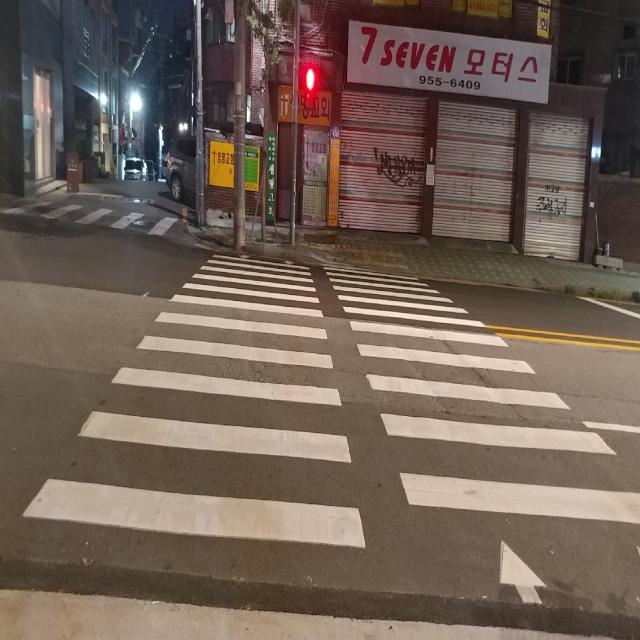빨간불: (305, 66, 316, 104)
횡단보도: (21, 252, 640, 605), (15, 202, 178, 234)
